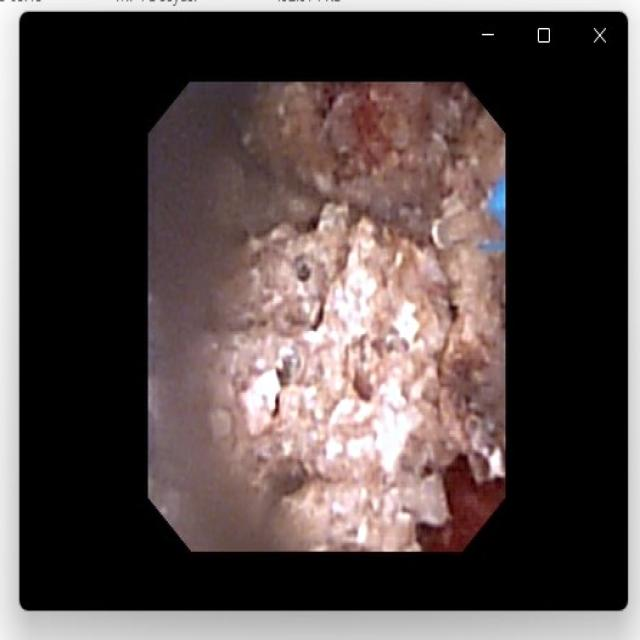stone: (202, 92, 500, 543)
